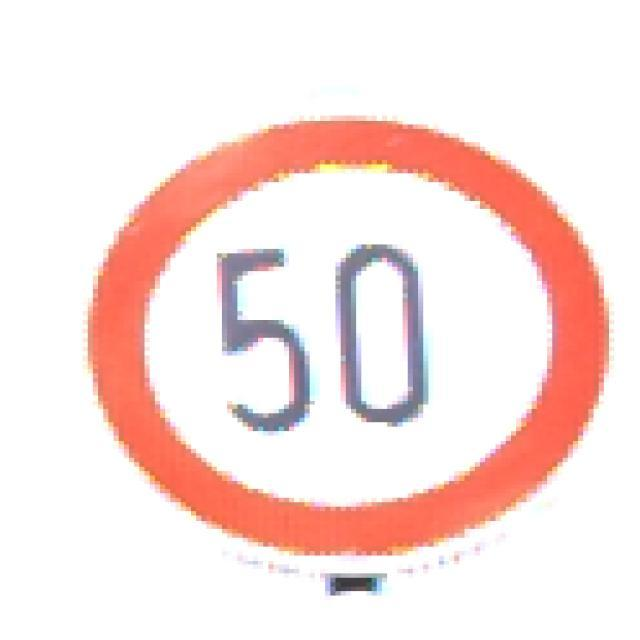speed limit 50: (75, 114, 616, 564)
